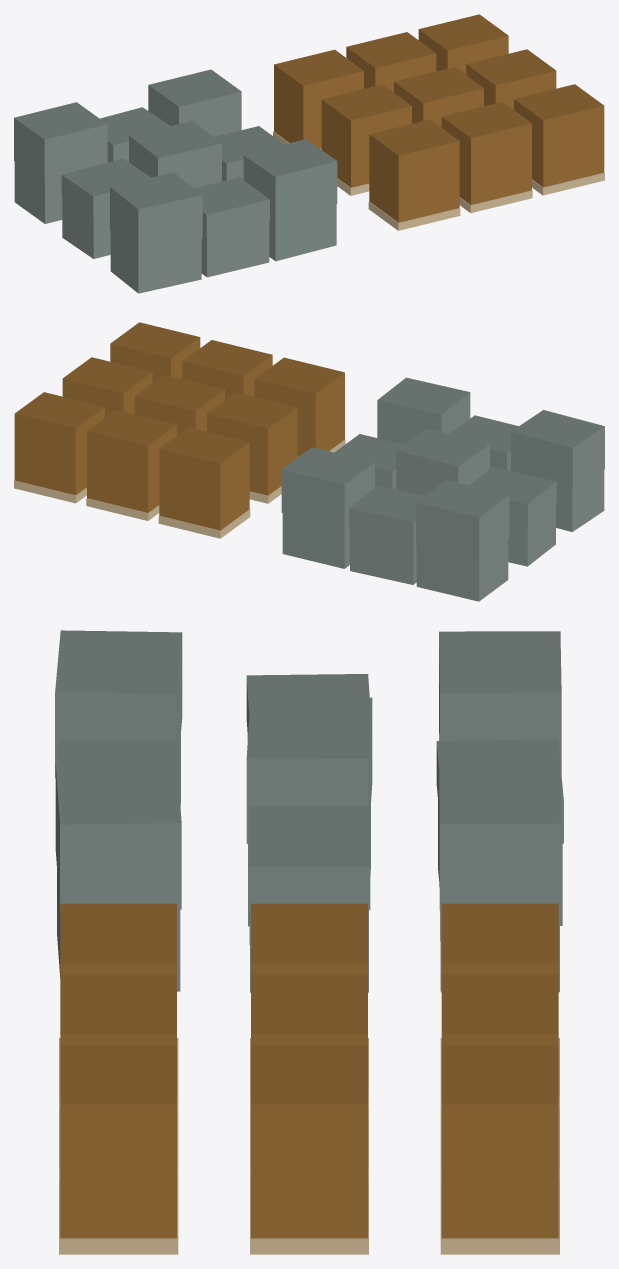
Rendered from SM_AcopioViveres_v2_Vacio_LOD1.fbx.
3 renders of one model, top to bottom at view 1: azimuth 30°, elevation 25°; view 2: azimuth 150°, elevation 25°; view 3: azimuth 270°, elevation 25°, orthographic. The views are drawn at different scales.
Visible parts, largest first — view 1: SM_acopio_viveres_v2_LOD1; view 2: SM_acopio_viveres_v2_LOD1; view 3: SM_acopio_viveres_v2_LOD1.
Part boxes in pixels (x1,y1,x2,y2): SM_acopio_viveres_v2_LOD1: [14, 14, 604, 293]; SM_acopio_viveres_v2_LOD1: [14, 322, 604, 601]; SM_acopio_viveres_v2_LOD1: [55, 630, 563, 1254].
Size of the model in its own units: 9.03 by 1.56 by 4.27.
